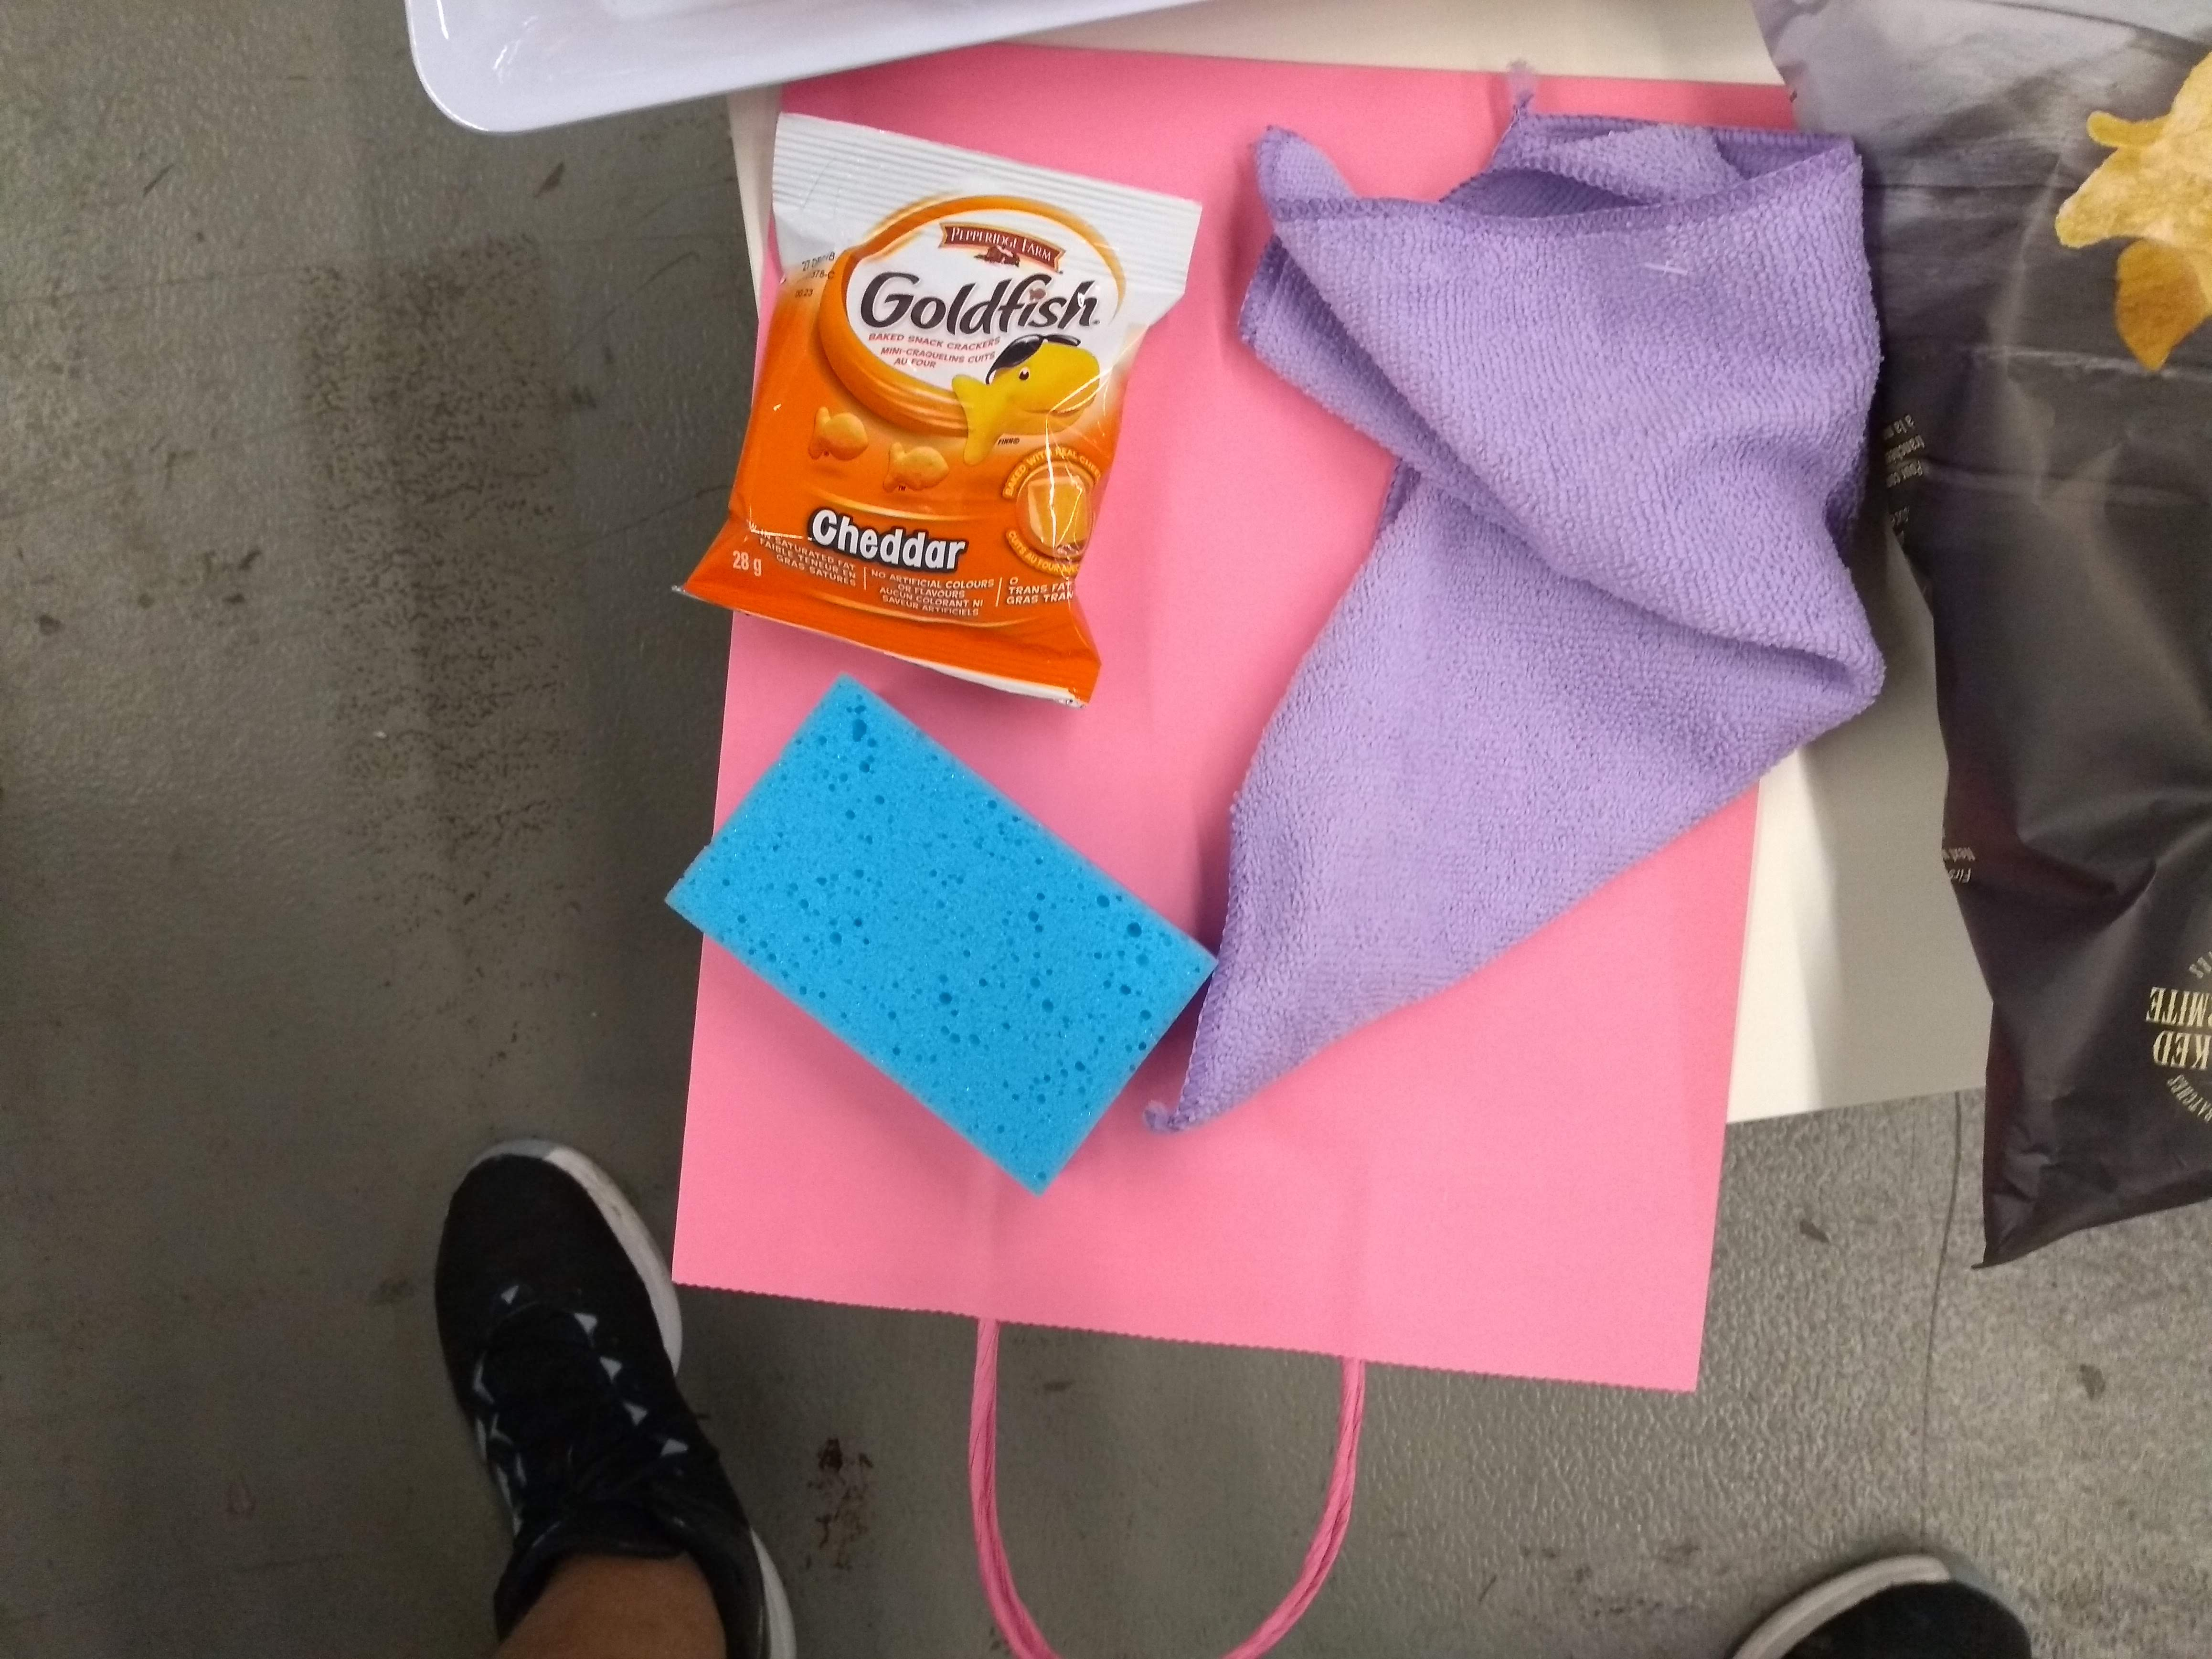cloth_opl: (1129, 56, 1904, 1155)
crackers: (660, 98, 1211, 727)
sponge_opl: (643, 681, 1224, 1215)
